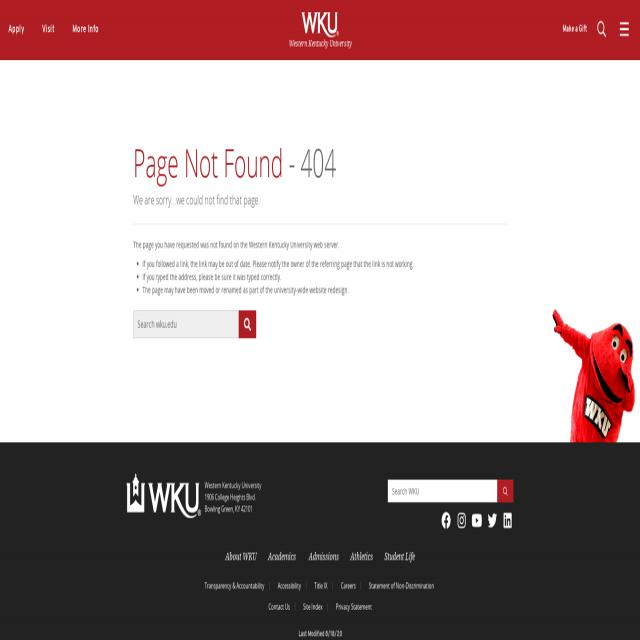button: (127, 473, 201, 518), (560, 9, 590, 50), (296, 12, 344, 37), (69, 16, 102, 42), (616, 11, 634, 50), (592, 15, 611, 49), (5, 16, 27, 42), (38, 16, 58, 42), (239, 310, 256, 340), (496, 481, 514, 504), (440, 512, 452, 530), (471, 512, 483, 530), (486, 512, 498, 530), (502, 512, 513, 530), (456, 512, 467, 530)
field: (133, 310, 239, 338), (388, 480, 498, 502)
